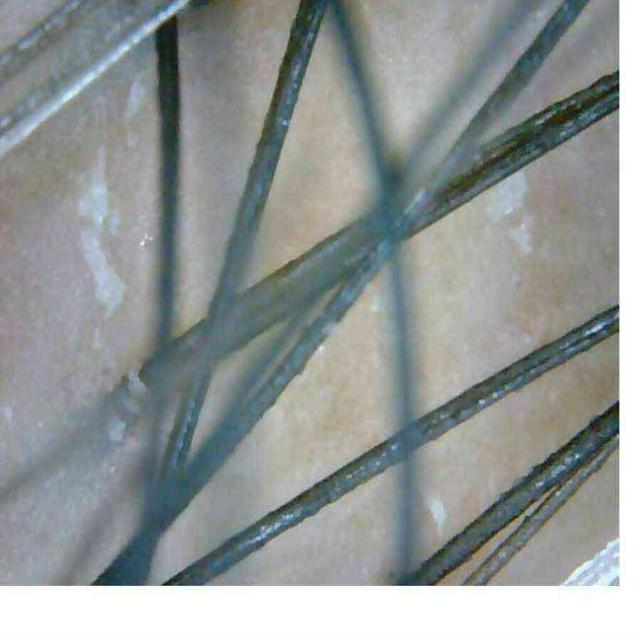d: (78, 145, 125, 317), (80, 230, 125, 317), (486, 171, 528, 220), (114, 369, 149, 417), (124, 73, 149, 120), (509, 213, 534, 254), (429, 497, 446, 532), (108, 415, 126, 443)
